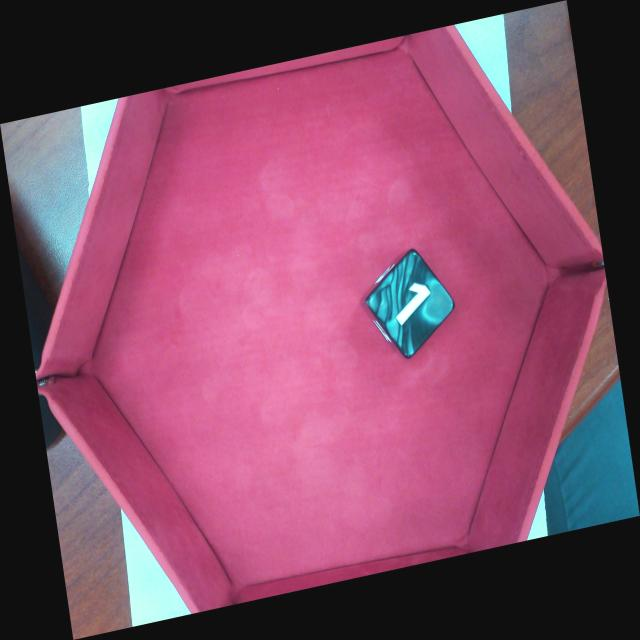dice: (367, 249, 456, 359)
